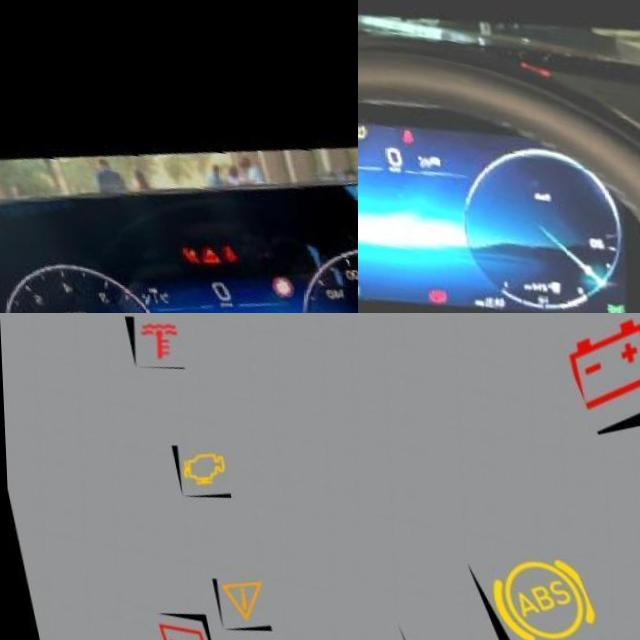Low fuel level: (555, 259, 569, 274)
Seat Belt: (219, 233, 239, 258)
